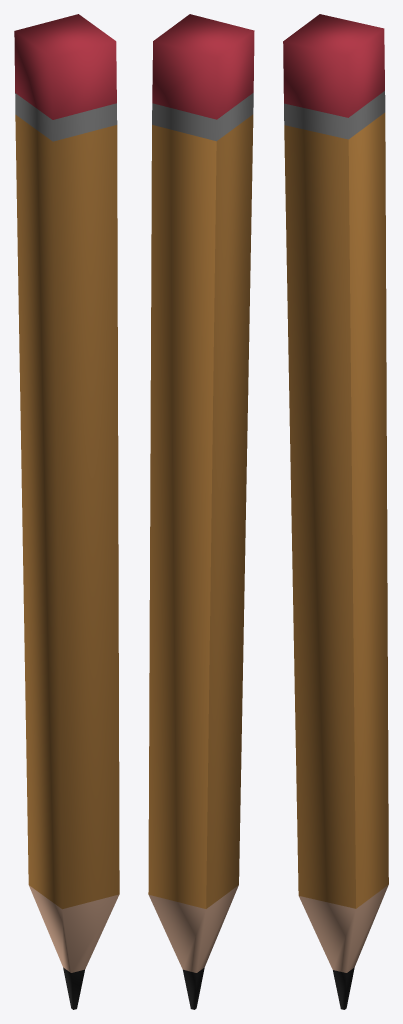
The model's file is Pencil1.fbx.
The picture shows the model from 3 angles, left to right: view 1: azimuth 30°, elevation 25°; view 2: azimuth 150°, elevation 25°; view 3: azimuth 330°, elevation 25°; orthographic projection.
Parts seen in each view (by area): view 1: Circle.002; view 2: Circle.002; view 3: Circle.002.
Boxes of the visible parts, x1=… form: Circle.002: x1=14, y1=14, x2=119, y2=1009; Circle.002: x1=148, y1=14, x2=254, y2=1009; Circle.002: x1=283, y1=14, x2=388, y2=1009.
Bounding box in the file's own units: 2.65 × 34.93 × 2.43.
